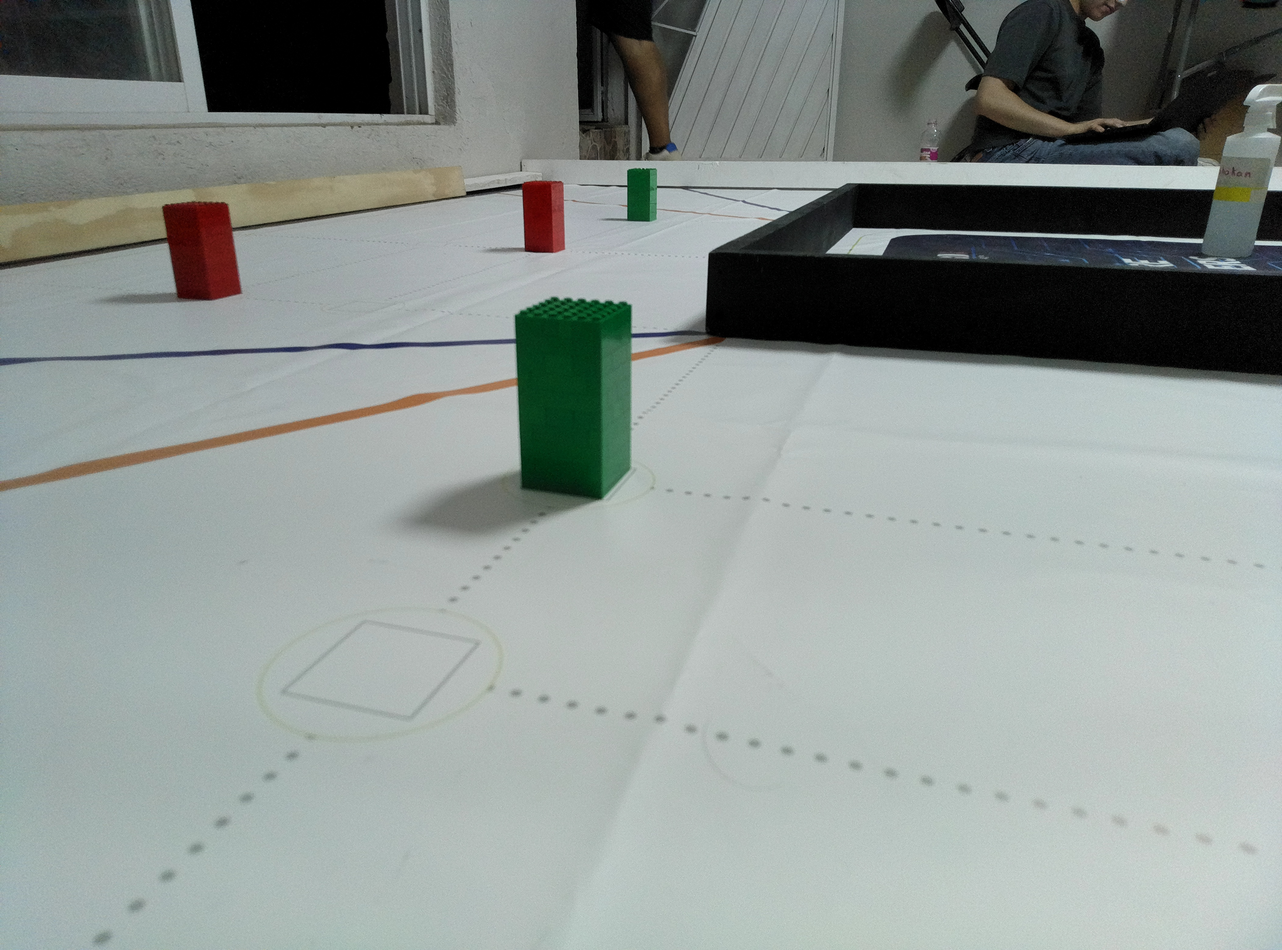greenbox: (514, 294, 632, 502), (627, 168, 657, 222)
redbox: (161, 202, 243, 300), (522, 181, 565, 253)
